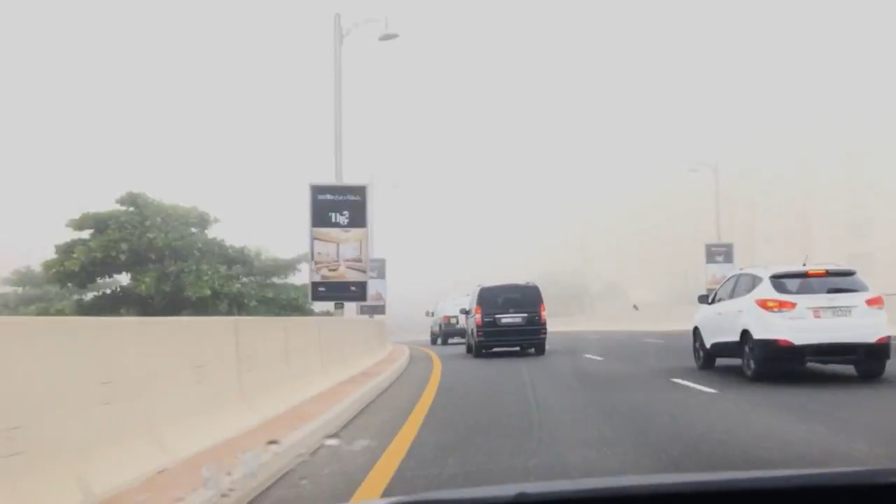car: (683, 257, 889, 385), (459, 280, 550, 359), (422, 292, 496, 343)
